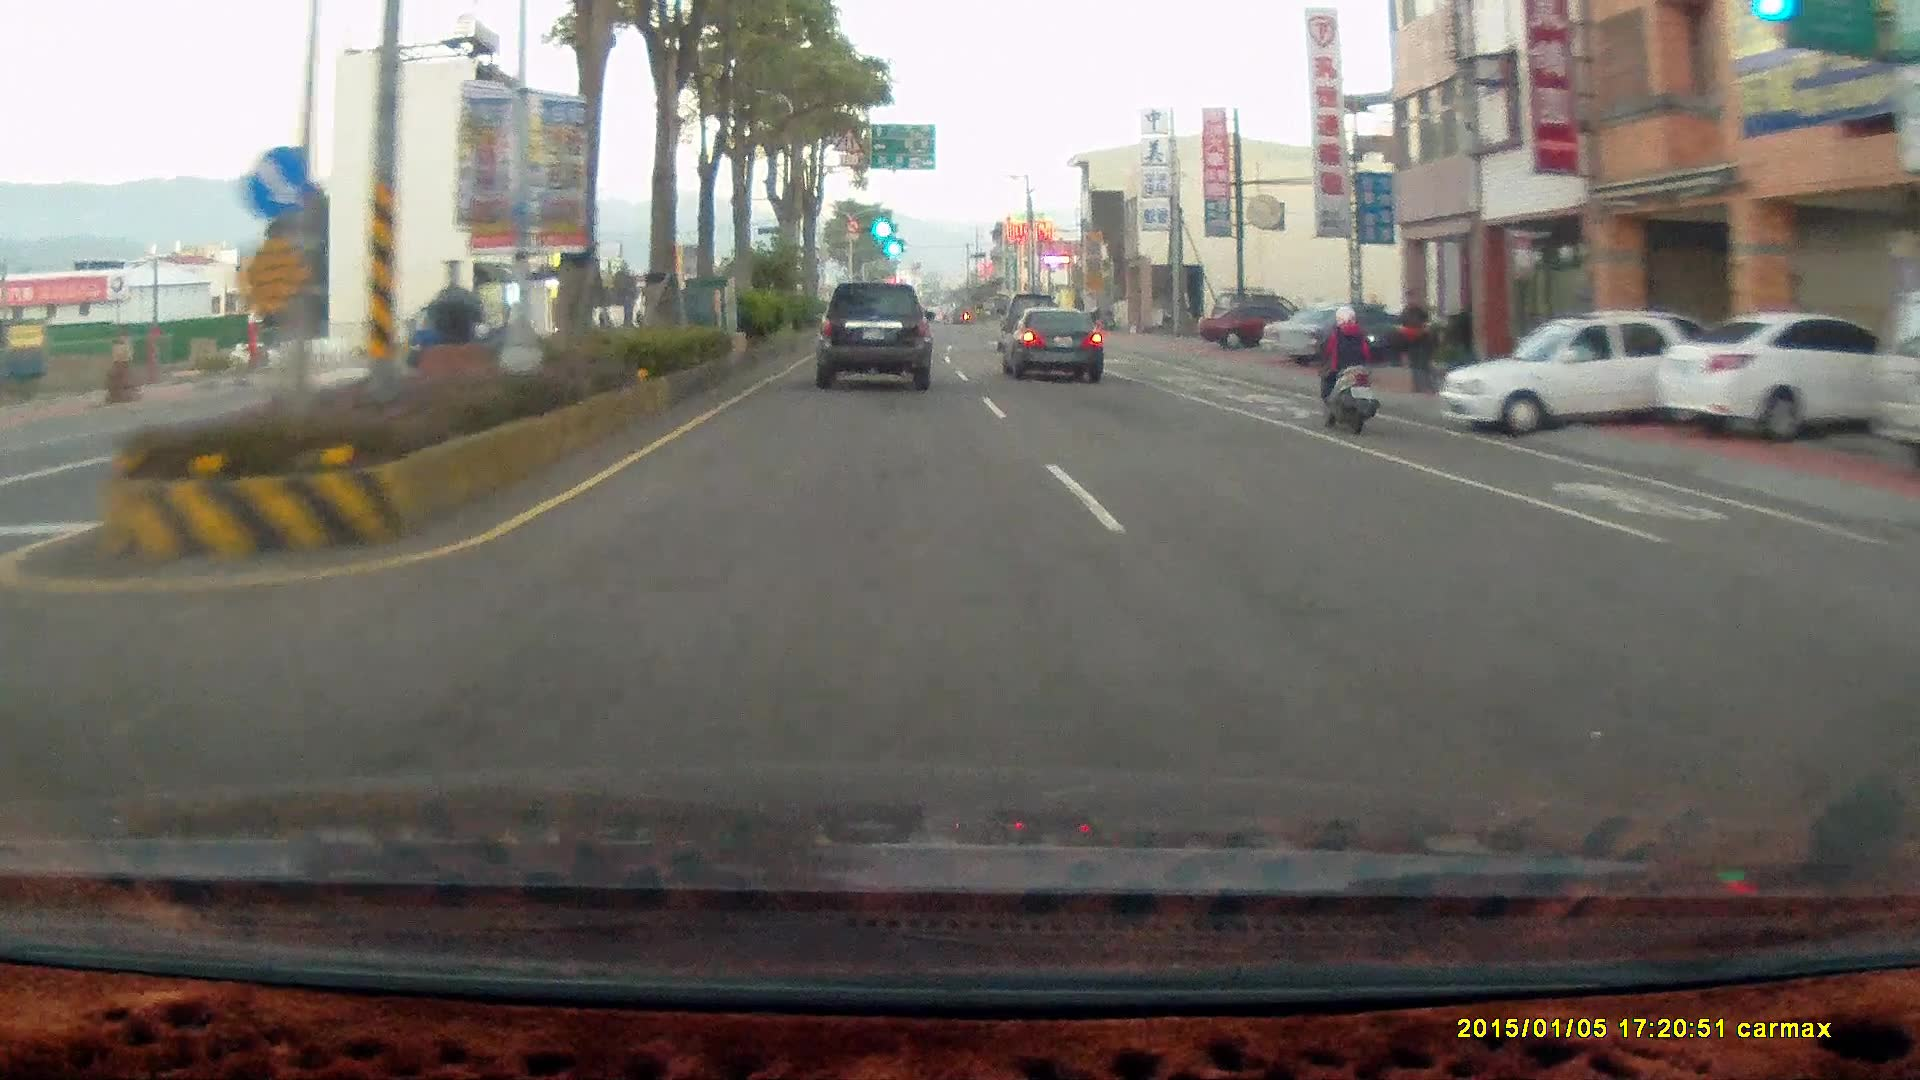pedestrian: (1391, 282, 1437, 391)
rider: (1303, 294, 1390, 441), (1312, 298, 1378, 428)
vehicle: (1440, 309, 1745, 430), (1654, 310, 1920, 440), (1439, 312, 1718, 433), (1655, 313, 1884, 441), (810, 278, 940, 394), (814, 281, 936, 391), (1260, 294, 1419, 362), (1260, 299, 1418, 364), (1867, 285, 1920, 466), (998, 304, 1102, 383), (1004, 306, 1106, 383), (1199, 302, 1320, 349)
